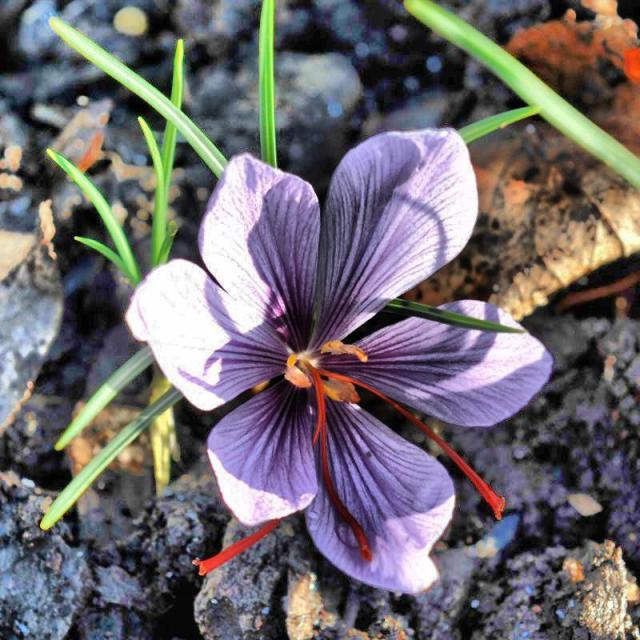Flower: (121, 123, 564, 597)
stigma: (316, 370, 510, 525), (310, 371, 376, 578), (192, 515, 283, 580)
